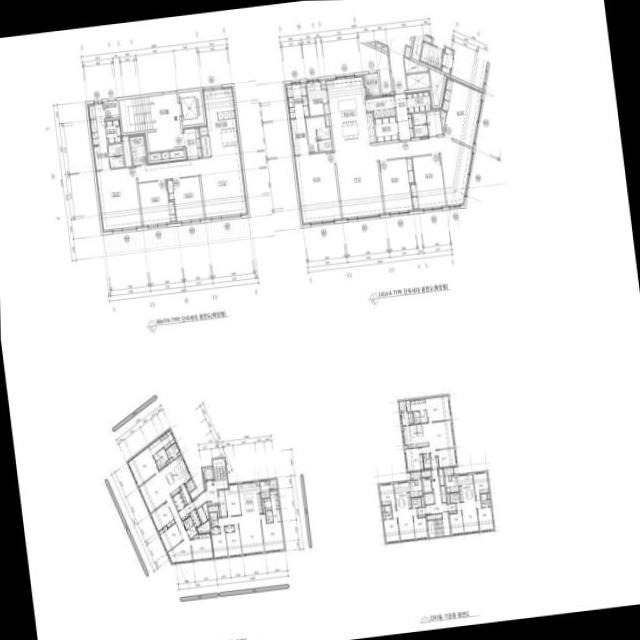background: (0, 0, 640, 640)
space_balconi: (184, 478, 195, 491), (268, 478, 276, 488)
space_bedroom: (293, 151, 341, 224), (95, 166, 141, 231), (440, 75, 482, 146), (378, 157, 414, 214), (410, 153, 445, 210), (166, 175, 204, 222), (138, 179, 176, 226), (127, 445, 158, 486), (260, 513, 284, 551), (157, 522, 182, 551), (150, 501, 174, 530), (425, 395, 450, 421), (190, 532, 213, 560), (223, 483, 240, 515), (211, 525, 227, 557), (225, 524, 241, 555), (404, 446, 423, 470), (379, 483, 395, 510), (472, 472, 488, 499), (476, 506, 493, 530), (435, 447, 455, 466), (383, 518, 399, 541), (412, 515, 427, 537), (449, 510, 463, 533), (224, 524, 234, 531), (210, 526, 220, 533)
space_dressroom: (284, 81, 309, 118), (86, 101, 106, 145), (289, 117, 308, 154), (105, 117, 121, 142), (159, 428, 175, 449), (409, 398, 426, 410), (269, 489, 278, 508), (263, 497, 271, 509)
space_elevator: (179, 89, 203, 124), (421, 476, 432, 492), (201, 466, 213, 480)
space_elevator_hall: (146, 92, 183, 151), (192, 447, 227, 508), (425, 469, 448, 518)
space_front: (393, 92, 413, 139), (182, 125, 201, 158), (405, 89, 431, 112), (178, 500, 194, 519), (217, 489, 226, 516), (189, 508, 201, 527), (172, 491, 184, 510), (416, 506, 425, 517), (430, 456, 438, 468), (447, 503, 456, 513)
space_kitchen: (325, 74, 375, 149), (201, 85, 240, 156), (159, 454, 191, 496), (393, 479, 422, 510), (444, 474, 475, 502), (237, 481, 262, 515), (402, 423, 428, 447)
space_living_room: (334, 136, 472, 219), (136, 153, 247, 219), (138, 471, 191, 563), (217, 513, 263, 554), (421, 420, 453, 457), (391, 507, 416, 539), (455, 500, 480, 531)
space_multipurpose_space: (306, 79, 327, 115)
space_other: (377, 35, 412, 91), (365, 94, 395, 117), (373, 116, 398, 141), (428, 67, 444, 105), (405, 71, 430, 89), (403, 56, 428, 72), (121, 134, 131, 166), (179, 483, 191, 505), (165, 442, 179, 459), (200, 135, 210, 156), (196, 505, 207, 523), (259, 479, 269, 497), (400, 411, 413, 424), (197, 519, 209, 531), (423, 492, 434, 504), (323, 103, 329, 125), (208, 504, 219, 516), (201, 501, 208, 519), (169, 149, 184, 157), (439, 485, 446, 502), (437, 468, 444, 485), (440, 109, 445, 130), (376, 42, 387, 51), (426, 513, 441, 519), (149, 152, 160, 160), (198, 125, 207, 134), (404, 45, 410, 57), (420, 470, 430, 476), (165, 456, 173, 463), (320, 78, 325, 88), (161, 151, 168, 158), (406, 400, 410, 411), (261, 498, 264, 512), (420, 496, 424, 506), (446, 493, 449, 503), (191, 533, 197, 537), (255, 480, 259, 485), (486, 492, 489, 498), (381, 505, 384, 511), (203, 481, 205, 489), (176, 451, 180, 455), (448, 476, 451, 480), (404, 444, 407, 448), (414, 480, 417, 484), (207, 501, 210, 504)
space_outdoor_room: (364, 72, 380, 95), (104, 99, 118, 115), (398, 399, 406, 411), (410, 471, 420, 479), (443, 467, 453, 475)
space_staircase: (119, 95, 155, 132), (427, 517, 450, 537), (217, 457, 226, 480)
space_toilet: (305, 115, 332, 152), (92, 142, 124, 169), (129, 135, 146, 165), (425, 110, 441, 135), (152, 447, 168, 469), (148, 437, 162, 454), (412, 409, 427, 422), (413, 123, 428, 136), (412, 112, 426, 124), (186, 524, 197, 538), (479, 493, 490, 506), (410, 496, 421, 507), (449, 491, 460, 502), (209, 511, 217, 526), (382, 505, 391, 518), (271, 508, 280, 521), (422, 453, 430, 467), (186, 515, 193, 526), (182, 518, 189, 529), (264, 509, 272, 516), (265, 515, 272, 522)
